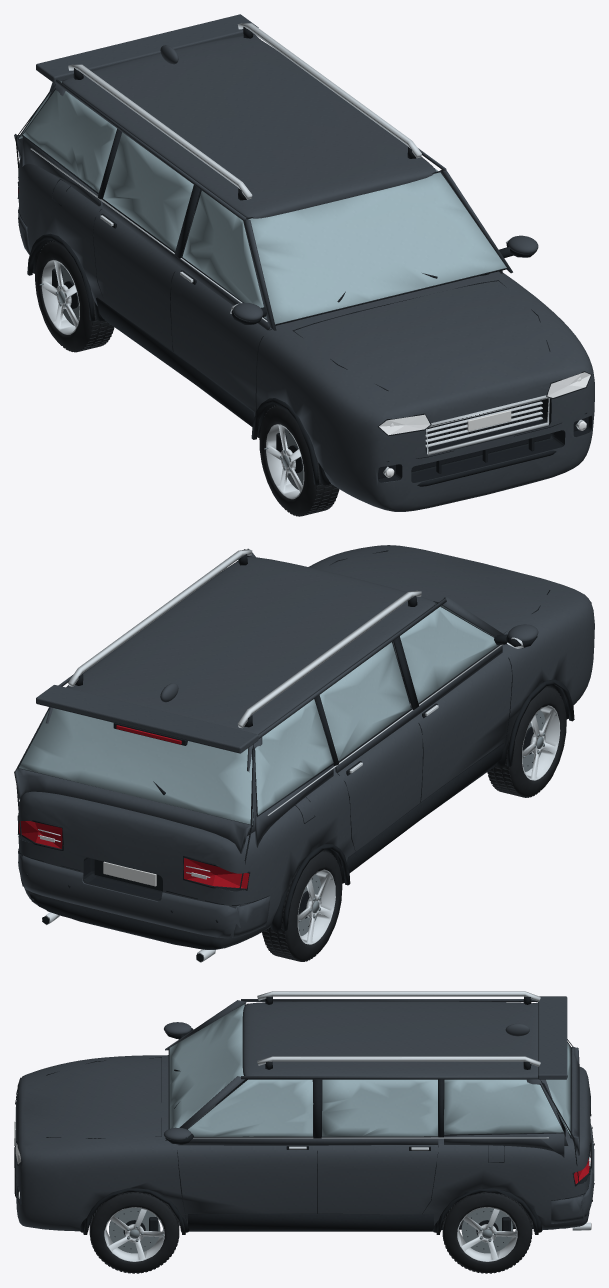
File: suv-lod0.glb
3 renders of one model, top to bottom at view 1: azimuth 30°, elevation 25°; view 2: azimuth 150°, elevation 25°; view 3: azimuth 270°, elevation 25°, orthographic. The views are drawn at different scales.
Parts seen in each view (by area): view 1: body_paint, body_glass.001, body_black.001, body_chrome, wheelpart_rubber.001 (×2), wheelpart_chrome (×2), body_clearlens; view 2: body_paint, body_glass.001, body_black.001, wheelpart_rubber.001 (×2), body_chrome, wheelpart_chrome (×2), body_redlens, body_white; view 3: body_paint, body_glass.001, body_black.001, wheelpart_rubber.001 (×2), body_chrome, wheelpart_chrome (×2), wheelpart_steel.001 (×2).
Part boxes in pixels (<box>): body_paint: <box>14,14,594,511</box>; body_glass.001: <box>19,81,506,324</box>; body_black.001: <box>15,27,592,486</box>; body_chrome: <box>30,23,584,475</box>; wheelpart_rubber.001 (×2): <box>35,240,339,516</box>; wheelpart_chrome (×2): <box>41,260,304,499</box>; body_clearlens: <box>379,372,590,477</box>; body_paint: <box>14,545,594,949</box>; body_glass.001: <box>19,603,497,824</box>; body_black.001: <box>15,550,591,961</box>; wheelpart_rubber.001 (×2): <box>262,686,566,961</box>; body_chrome: <box>38,549,523,962</box>; wheelpart_chrome (×2): <box>297,705,560,944</box>; body_redlens: <box>18,725,249,888</box>; body_white: <box>103,861,156,886</box>; body_paint: <box>15,996,594,1231</box>; body_glass.001: <box>169,1004,570,1136</box>; body_black.001: <box>14,996,594,1234</box>; wheelpart_rubber.001 (×2): <box>89,1192,532,1273</box>; body_chrome: <box>15,991,590,1230</box>; wheelpart_chrome (×2): <box>104,1207,517,1261</box>; wheelpart_steel.001 (×2): <box>109,1208,513,1253</box>.
Bounding box in the file's own units: 2.24 × 1.83 × 4.78.
Materials: 10 (10 with a texture image).
